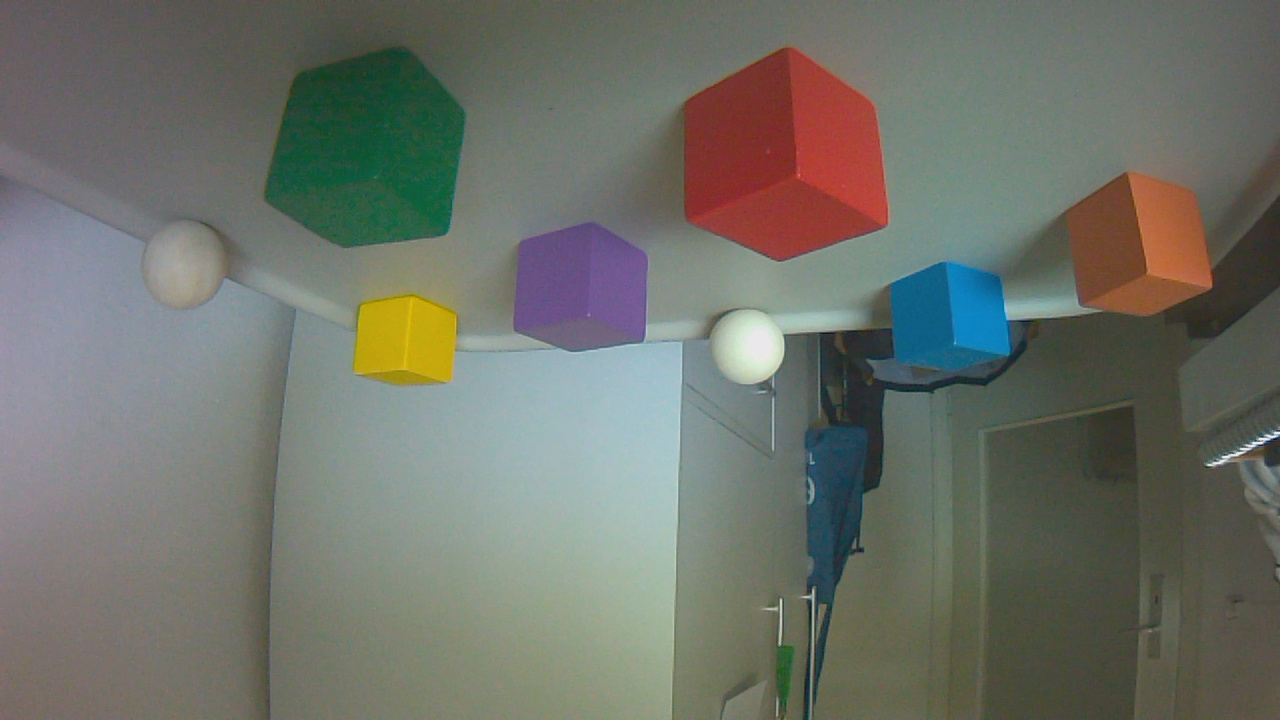ball: (143, 222, 234, 318), (712, 311, 791, 394)
cube_blue: (890, 263, 1019, 381)
cube_green: (268, 50, 475, 258)
cube_orange: (1070, 173, 1220, 327)
cube_purple: (516, 226, 656, 359)
cube_red: (685, 51, 896, 273)
cube_yellow: (356, 297, 464, 397)
